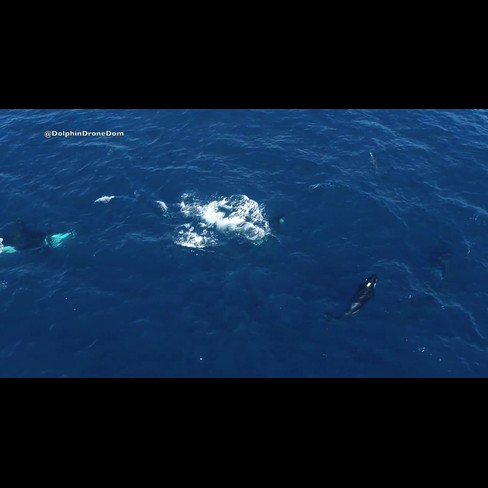orca: (319, 267, 382, 332), (1, 220, 81, 264)
